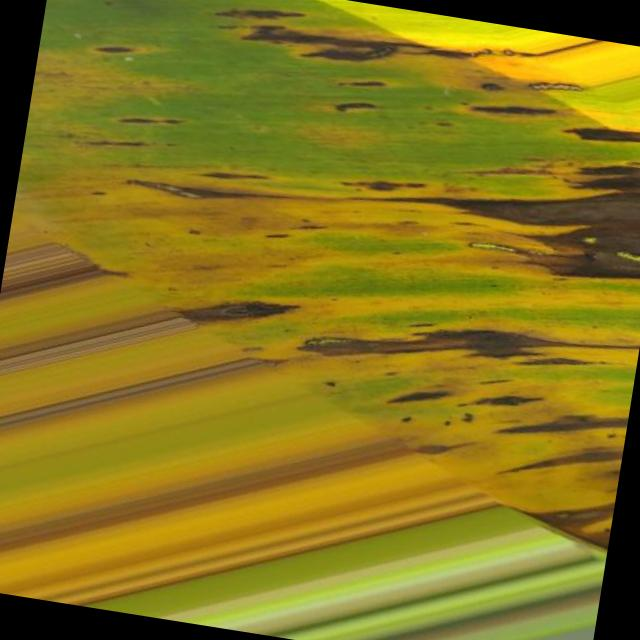Banana_Black_Sigatoka: (180, 0, 640, 301), (201, 265, 640, 557)
